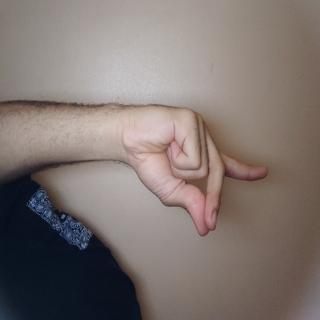TAA: (74, 62, 178, 280)
